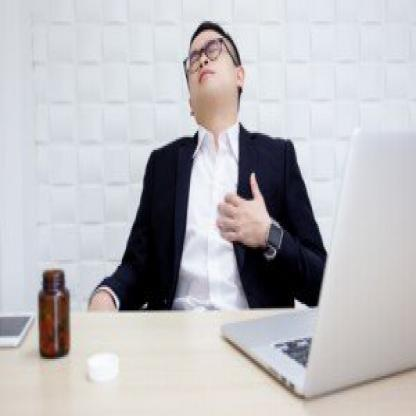pain: (182, 35, 225, 71)
